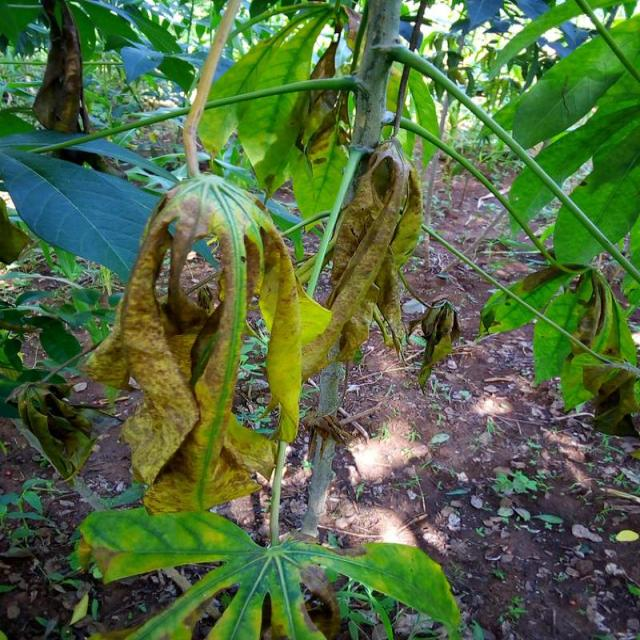cassava leaf: (80, 171, 326, 514), (74, 504, 464, 638)
